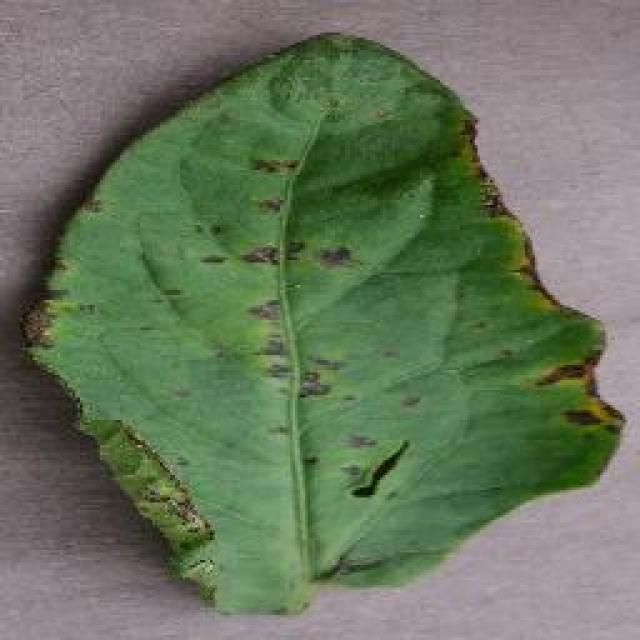Tomato bacterial spot leaf: (28, 23, 630, 612)
